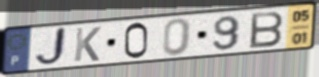0: (161, 16, 193, 57), (123, 21, 150, 60)
9: (212, 14, 242, 52)
B: (249, 10, 286, 50)
J: (32, 25, 69, 69)
K: (72, 25, 104, 63)
